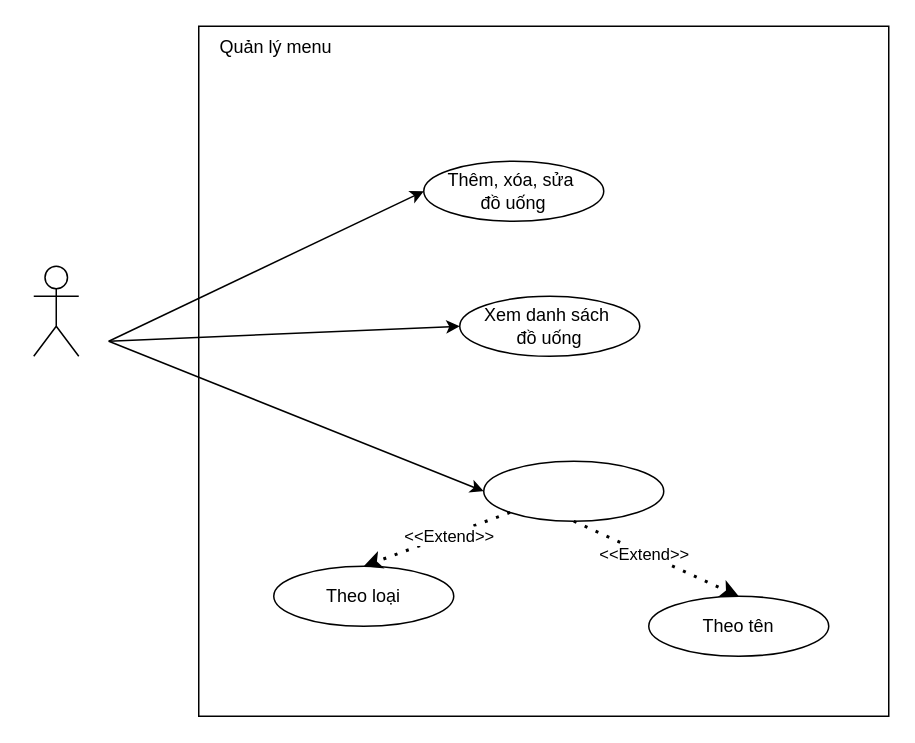
The diagram is 915 pixels wide and 743 high, and some of its shapes have lost their labels. Each missing label, with the box of its shape:
Quản lý: (32, 265, 79, 356)
Tra cứu đồ uống: (482, 460, 664, 521)
